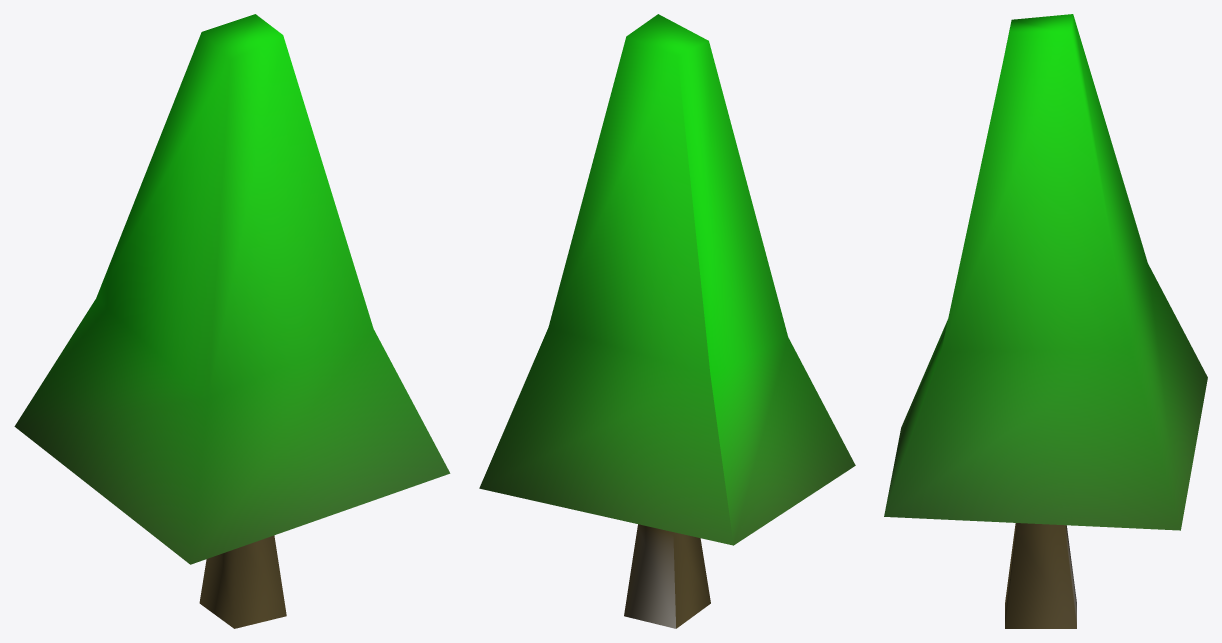
The model's file is tree-forest-sapin.glb.
3 renders of one model, left to right at view 1: azimuth 30°, elevation 25°; view 2: azimuth 150°, elevation 25°; view 3: azimuth 270°, elevation 25°, orthographic. The views are drawn at different scales.
Parts seen in each view (by area): view 1: Cube.002; view 2: Cube.002; view 3: Cube.002.
Boxes of the visible parts, x1,y1,x2,y2 form: Cube.002: [14, 14, 450, 628]; Cube.002: [479, 14, 855, 628]; Cube.002: [884, 14, 1207, 628].
Size of the model in its own units: 6.9 by 13.74 by 6.77.
